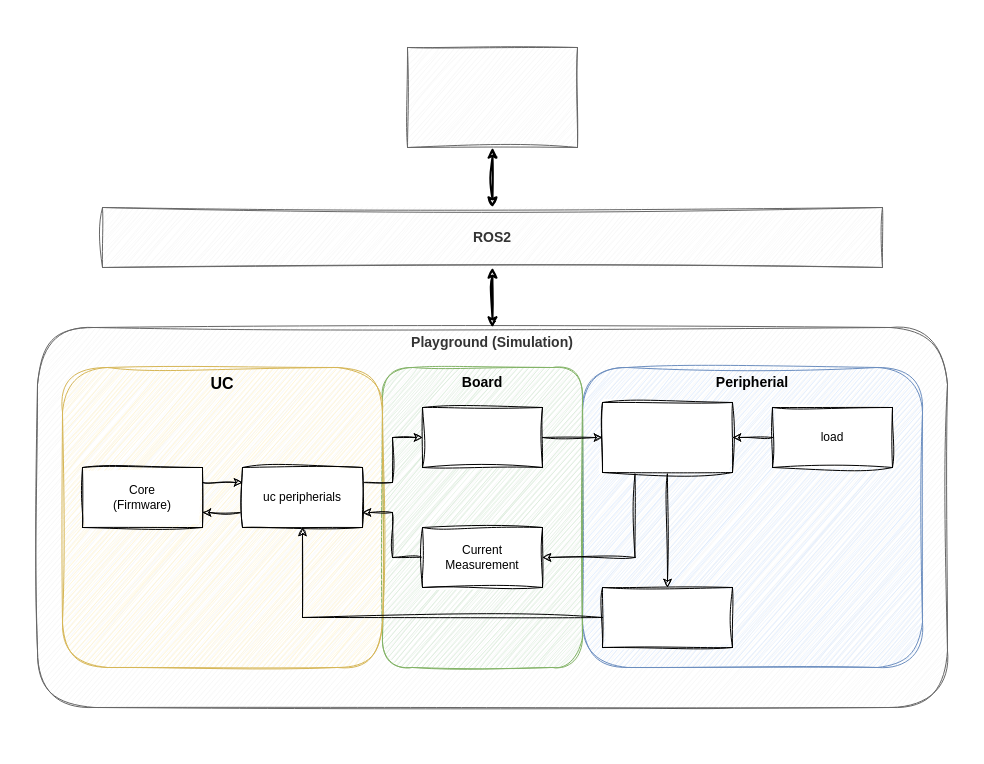
Some shapes in this 984 by 764 pixel diagram are drawn without their labels. The centre of each missing label's shape, as x and y in pixels:
Encoder: [667,617]
Inverter: [482,437]
Motor: [667,437]
UI: [492,97]
